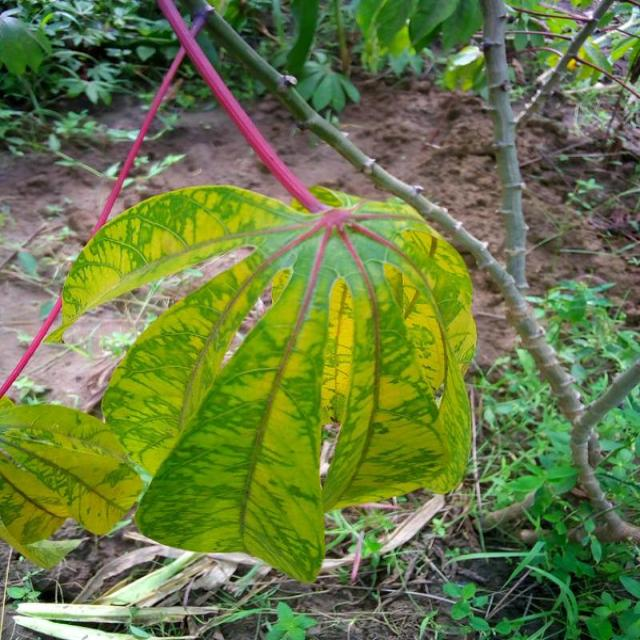cassava leaf: (44, 180, 478, 582), (0, 394, 143, 570)
